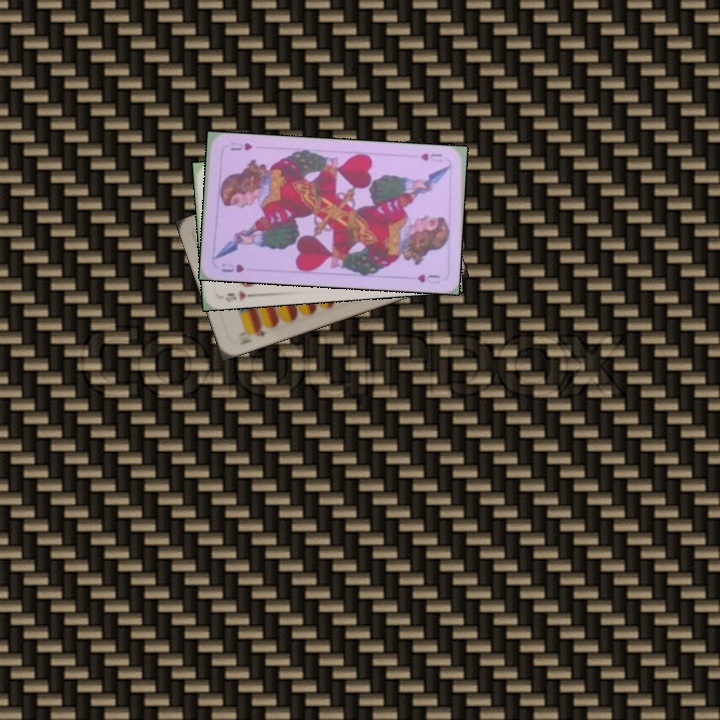E10: (244, 322, 269, 341)
H9: (221, 286, 258, 304)
HU: (217, 259, 247, 275), (416, 149, 445, 164)
